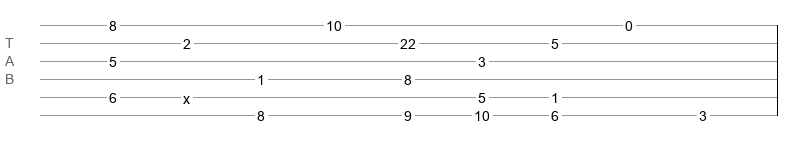0: (625, 18, 633, 28)
1: (257, 72, 265, 82), (551, 90, 559, 100)
10: (326, 18, 342, 28), (474, 108, 490, 118)
2: (183, 36, 191, 46)
22: (400, 36, 416, 46)
3: (478, 54, 486, 64), (699, 108, 707, 118)
5: (109, 54, 117, 64), (478, 90, 486, 100), (551, 36, 559, 46)
6: (109, 90, 117, 100), (551, 108, 559, 118)
8: (109, 18, 117, 28), (257, 108, 265, 118), (404, 72, 412, 82)
9: (404, 108, 412, 118)
x: (183, 91, 190, 99)
